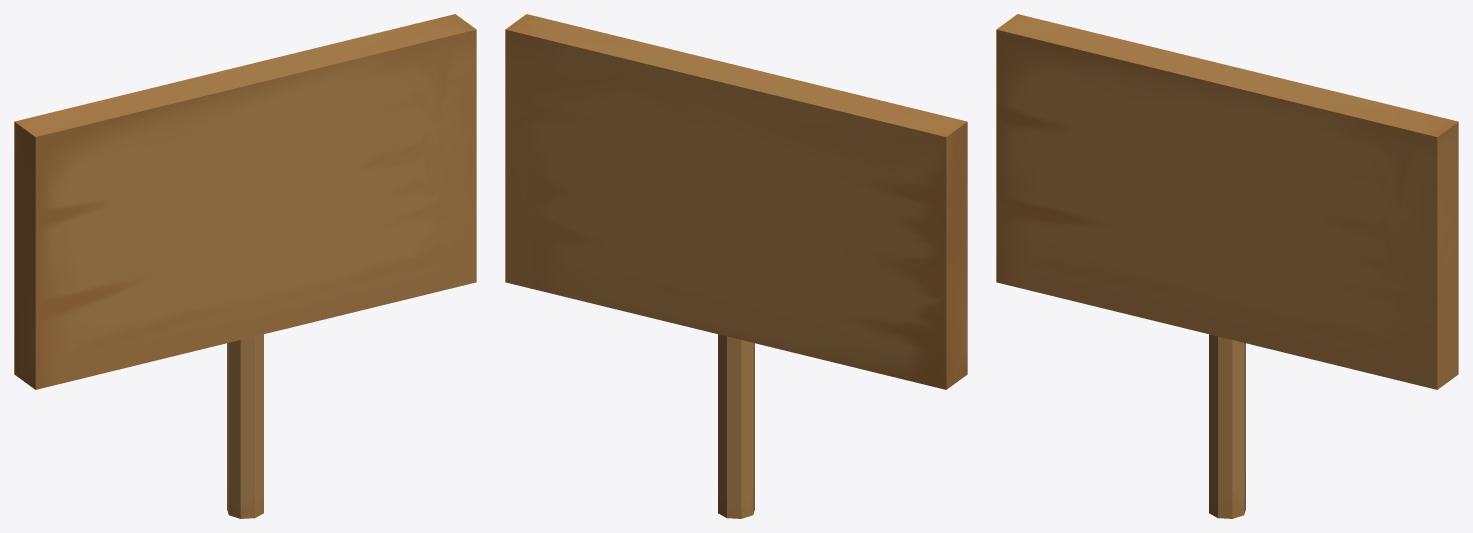
File: sign.gltf
3 views of the same model, side by side, from view 1: azimuth 30°, elevation 25°; view 2: azimuth 150°, elevation 25°; view 3: azimuth 330°, elevation 25° (orthographic).
Visible parts, largest first — view 1: Cube.002, 圓柱體.001; view 2: Cube.002, 圓柱體.001; view 3: Cube.002, 圓柱體.001.
Part boxes in pixels (x1=…): Cube.002: x1=14, y1=14, x2=476, y2=389; 圓柱體.001: x1=227, y1=334, x2=263, y2=518; Cube.002: x1=505, y1=14, x2=967, y2=389; 圓柱體.001: x1=718, y1=334, x2=754, y2=518; Cube.002: x1=996, y1=14, x2=1458, y2=389; 圓柱體.001: x1=1209, y1=334, x2=1245, y2=518.
Size of the model in its own units: 2 by 1.89 by 0.167.
Materials: 1 (1 with a texture image).
